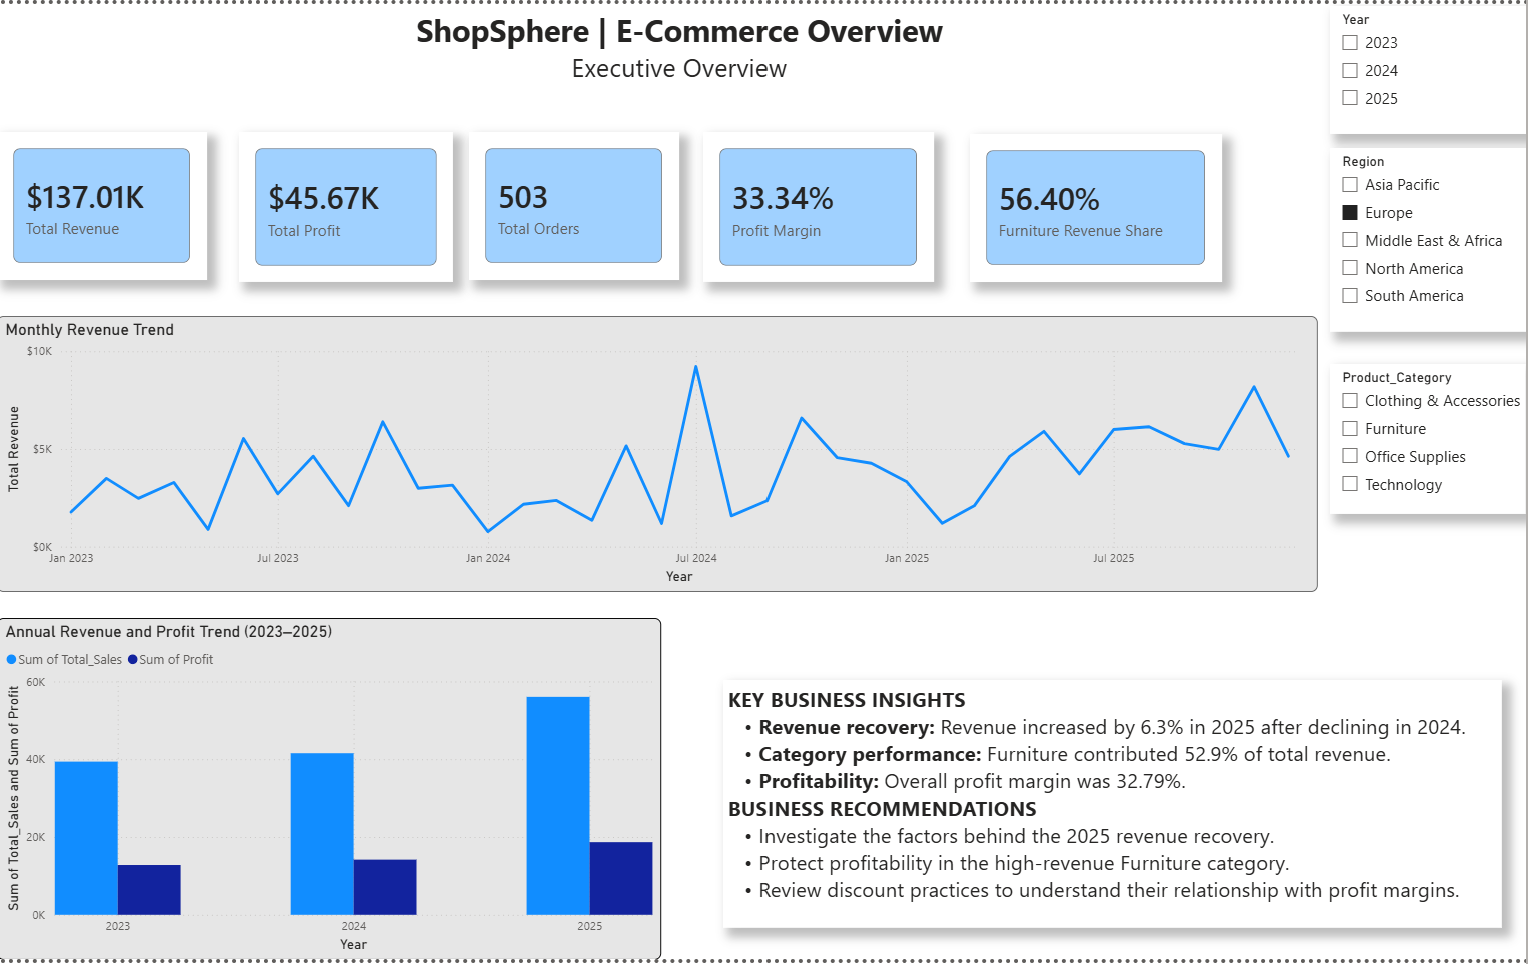

The dashboard page shown, as its layout file describes it:
{"tool":"powerbi","page":{"name":"Page 1","canvas":[1600,1000],"ordinal":0},"visuals":[{"type":"cardVisual","fields":{"Data":["global_ecommerce_sales.Total Revenue"]},"box":[0,134,219.9,155],"z":0},{"type":"textbox","box":[108.9,0,1210.5,98.4],"z":1000},{"type":"clusteredColumnChart","title":"Annual Revenue and Profit  Trend (2023–2025)","fields":{"Category":["global_ecommerce_sales.Order_Date.Variation.Date Hierarchy.Year","global_ecommerce_sales.Order_Date.Variation.Date Hierarchy.Quarter","global_ecommerce_sales.Order_Date.Variation.Date Hierarchy.Month","global_ecommerce_sales.Order_Date.Variation.Date Hierarchy.Day"],"Y":["Sum(global_ecommerce_sales.Total_Sales)","Sum(global_ecommerce_sales.Profit)"]},"box":[0,642.9,695.3,358.1],"z":2000},{"type":"lineChart","title":"Monthly Revenue Trend","fields":{"Y":["global_ecommerce_sales.Total Revenue"],"Category":["global_ecommerce_sales.Order_Date.Variation.Date Hierarchy.Year","global_ecommerce_sales.Order_Date.Variation.Date Hierarchy.Quarter","global_ecommerce_sales.Order_Date.Variation.Date Hierarchy.Month"]},"box":[0,326.7,1382.2,289],"z":3000},{"type":"cardVisual","fields":{"Data":["global_ecommerce_sales.Total Profit"]},"box":[253.4,134,224.1,157.1],"z":4000},{"type":"cardVisual","fields":{"Data":["global_ecommerce_sales.Profit Margin"]},"box":[739.3,134,240.8,157.1],"z":5000},{"type":"cardVisual","fields":{"Data":["global_ecommerce_sales.Total Orders"]},"box":[494.2,134,219.9,155],"z":6000},{"type":"slicer","fields":{"Values":["global_ecommerce_sales.Order_Date.Variation.Date Hierarchy.Year"]},"box":[1394.8,2.1,207.3,134],"z":7000},{"type":"slicer","fields":{"Values":["global_ecommerce_sales.Region"]},"box":[1394.8,150.8,207.3,192.7],"z":8000},{"type":"slicer","fields":{"Values":["global_ecommerce_sales.Product_Category"]},"box":[1394.8,377,205.2,157.1],"z":9000},{"type":"cardVisual","fields":{"Data":["global_ecommerce_sales.Furniture Revenue Share"]},"box":[1017.8,136.1,263.9,155],"z":10000},{"type":"textbox","box":[760.2,707.9,814.7,259.7],"z":11000}]}

Visuals, with their boxes on the page's 1600x1000 design canvas (x1, y1, x2, y2). These are canvas units, not pixel positions in the 1528x964 screenshot, which may show the page scaled, cropped or inside an application window:
cardVisual - global_ecommerce_sales.Total Revenue: BBox(0, 134, 220, 289)
textbox: BBox(109, 0, 1319, 98)
"Annual Revenue and Profit  Trend (2023–2025)" clusteredColumnChart: BBox(0, 643, 695, 1001)
"Monthly Revenue Trend" lineChart: BBox(0, 327, 1382, 616)
cardVisual - global_ecommerce_sales.Total Profit: BBox(253, 134, 478, 291)
cardVisual - global_ecommerce_sales.Profit Margin: BBox(739, 134, 980, 291)
cardVisual - global_ecommerce_sales.Total Orders: BBox(494, 134, 714, 289)
slicer - global_ecommerce_sales.Order_Date.Variation.Date Hierarchy.Year: BBox(1395, 2, 1602, 136)
slicer - global_ecommerce_sales.Region: BBox(1395, 151, 1602, 344)
slicer - global_ecommerce_sales.Product_Category: BBox(1395, 377, 1600, 534)
cardVisual - global_ecommerce_sales.Furniture Revenue Share: BBox(1018, 136, 1282, 291)
textbox: BBox(760, 708, 1575, 968)
